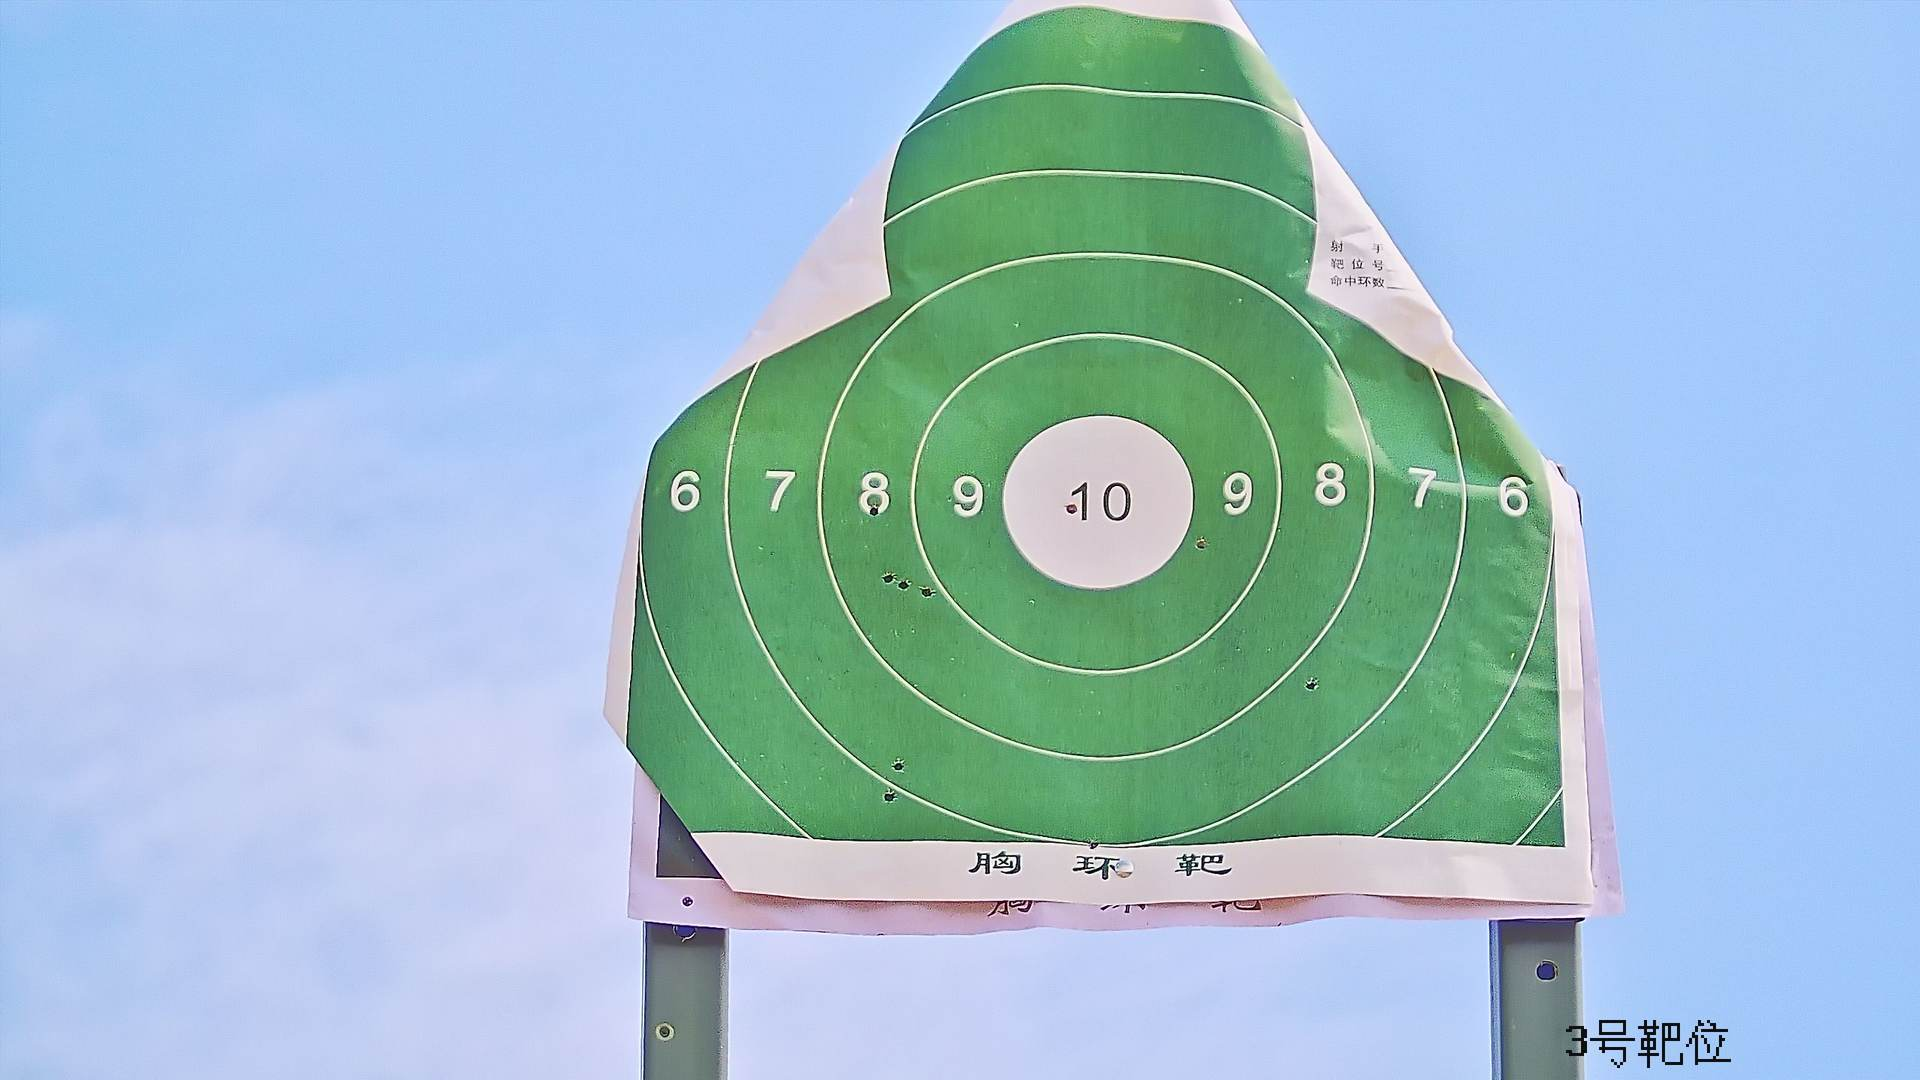hole: (1193, 537, 1211, 553), (882, 787, 895, 804), (1065, 502, 1081, 516), (920, 585, 938, 597), (891, 757, 903, 773), (1305, 676, 1317, 692), (866, 504, 880, 516), (880, 568, 891, 582), (899, 579, 909, 592), (1088, 837, 1097, 849)
kernel: (1096, 497, 1098, 505)
target: (625, 9, 1565, 858)
ten: (997, 409, 1192, 593)
